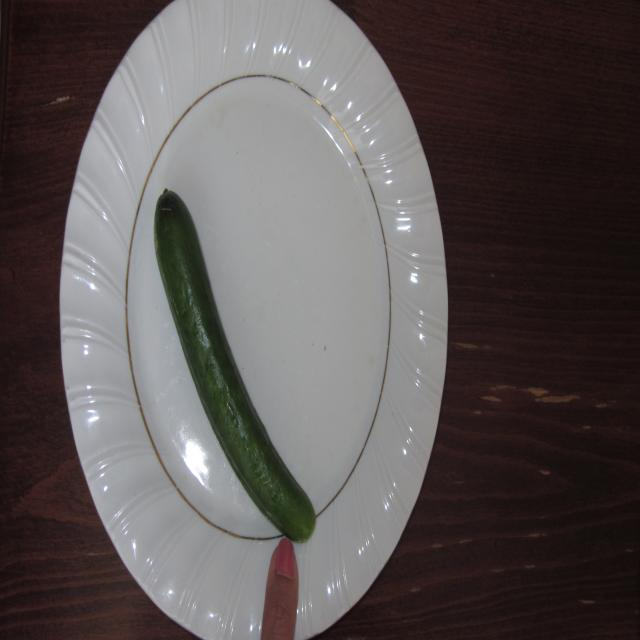cucumber: (150, 183, 334, 548)
